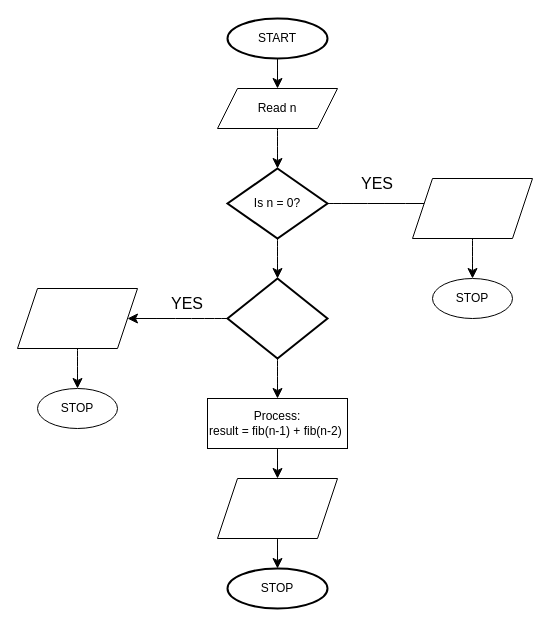
Image size: 550x626. Some labels were removed from this diagram. Here are the shapes that lost their labels. From the top down, the centre of each, then its label:
(472,208): Output: "Invalid input"
(77,318): Output: Return 1
(277,318): Is n = 0 OR n = 1?
(277,508): Output: Return result
